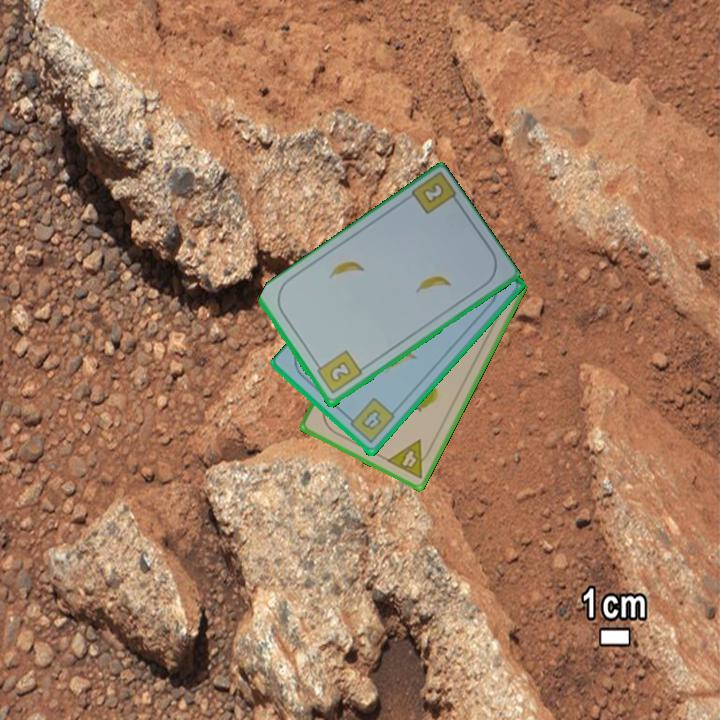2b: (312, 347, 365, 397), (418, 179, 447, 207)
4b: (343, 395, 398, 447)
4p: (383, 436, 436, 482)
